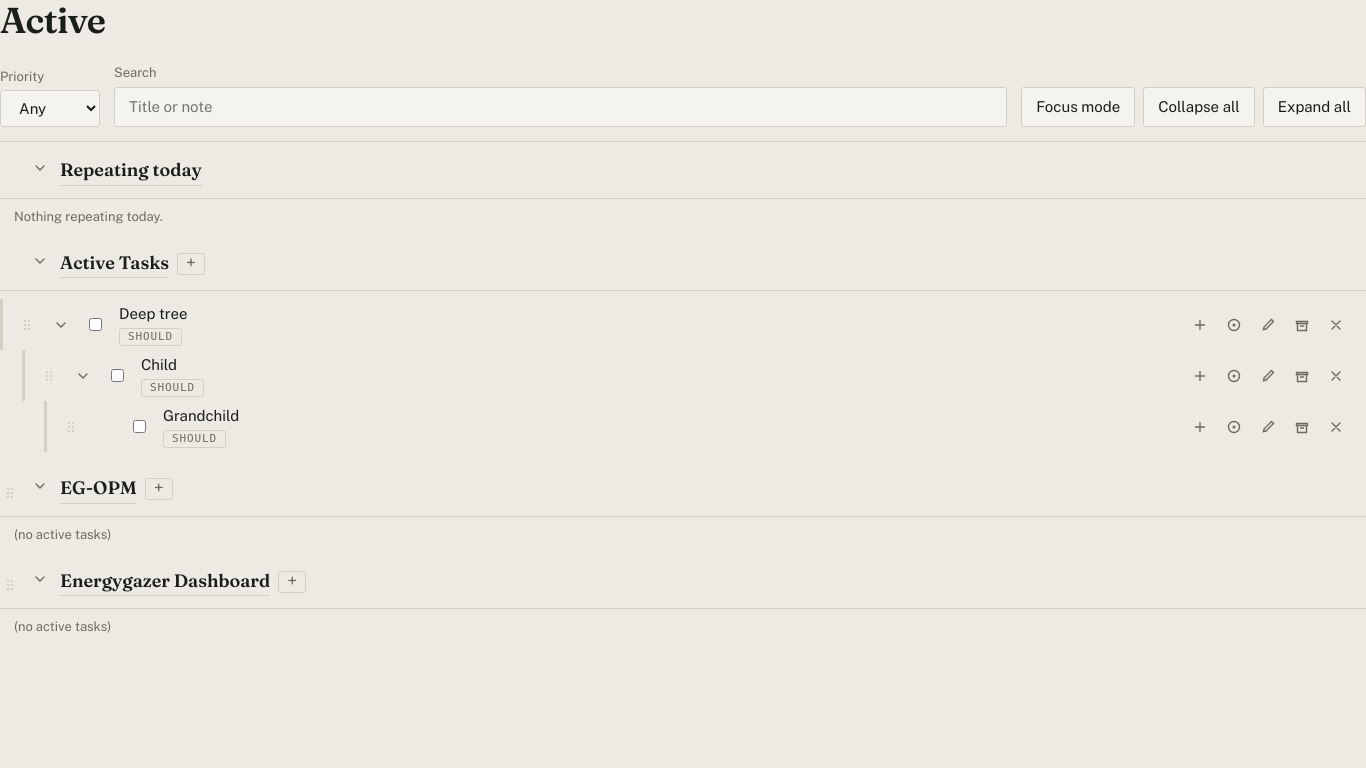
it: deleting asks first › counts the whole subtree, not just the direct children
The width and height of the screenshot is (1366, 768).
Expected: the text "Deep tree" is shown, [119,305,188,322]
Step 1. Click the 8th button named "delete Deep tree" → (1336, 325), box [1320,309,1352,341]
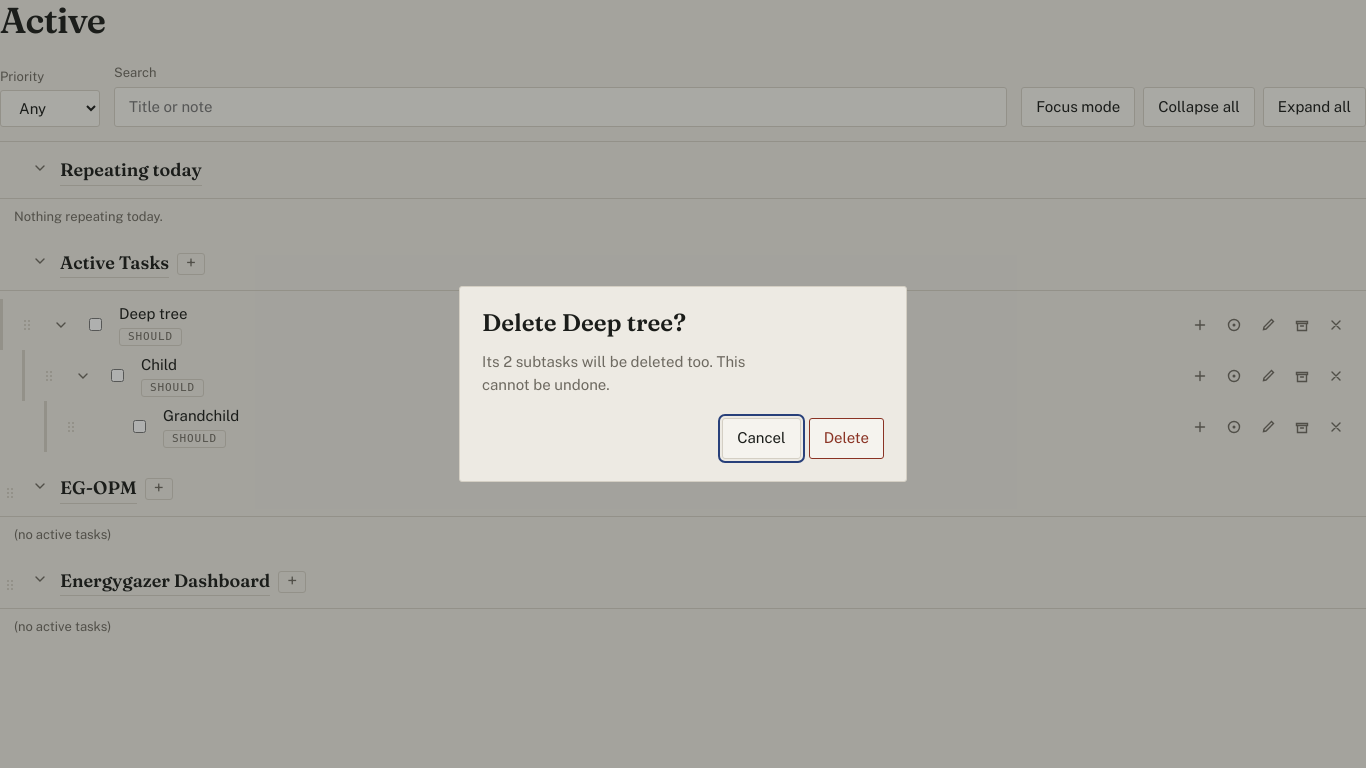
Now the dialog shows "2 subtasks", box [482,353,745,392]
